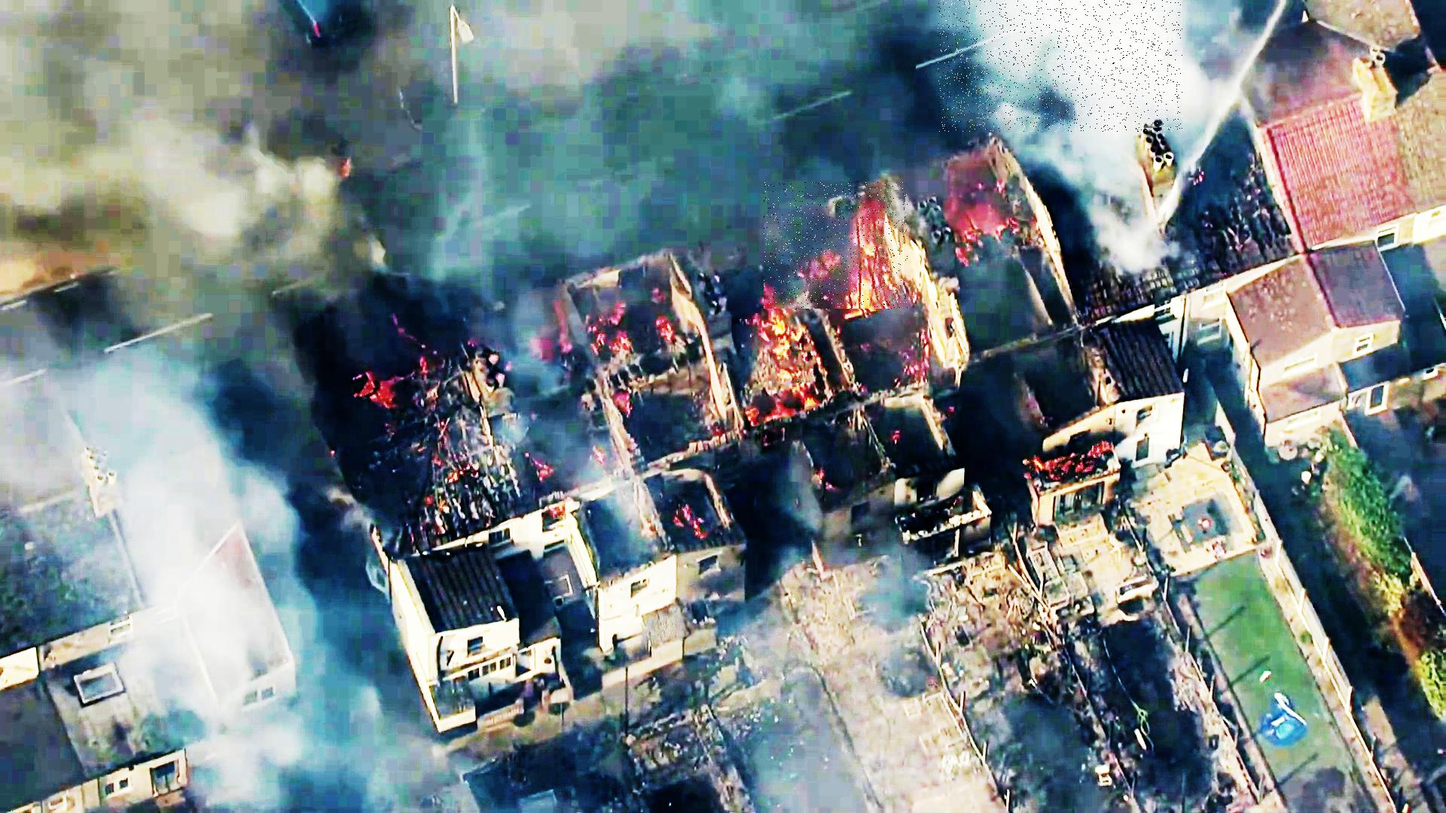fire: (764, 183, 908, 311)
smoke: (938, 0, 1182, 132)
